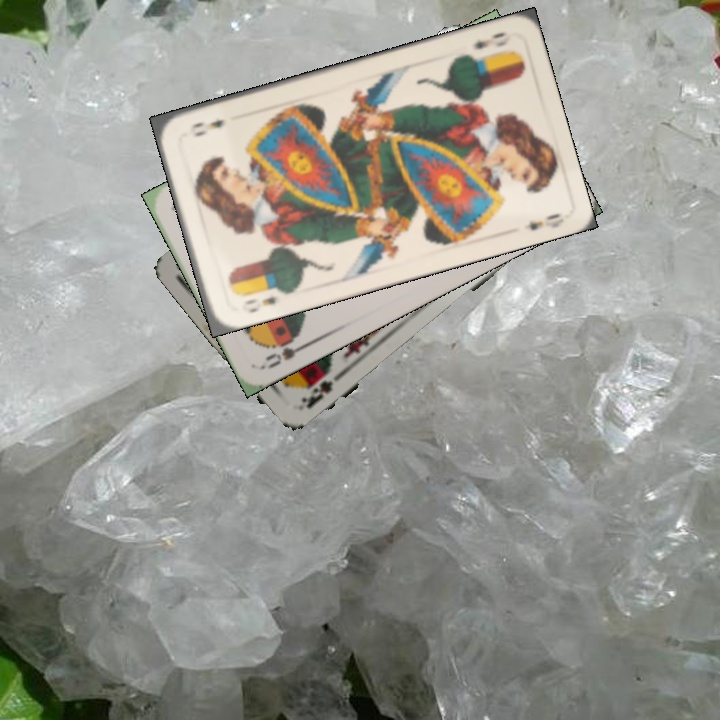EO: (470, 28, 514, 52), (240, 292, 281, 316)
SK: (297, 365, 336, 411)
SO: (259, 330, 314, 372)
